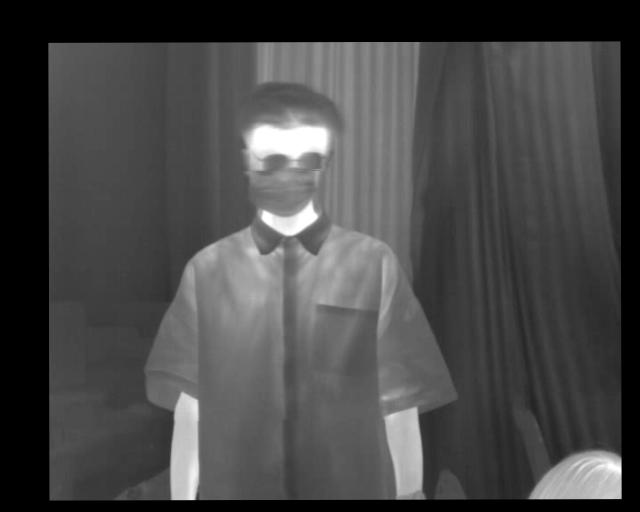face: (234, 79, 346, 218)
